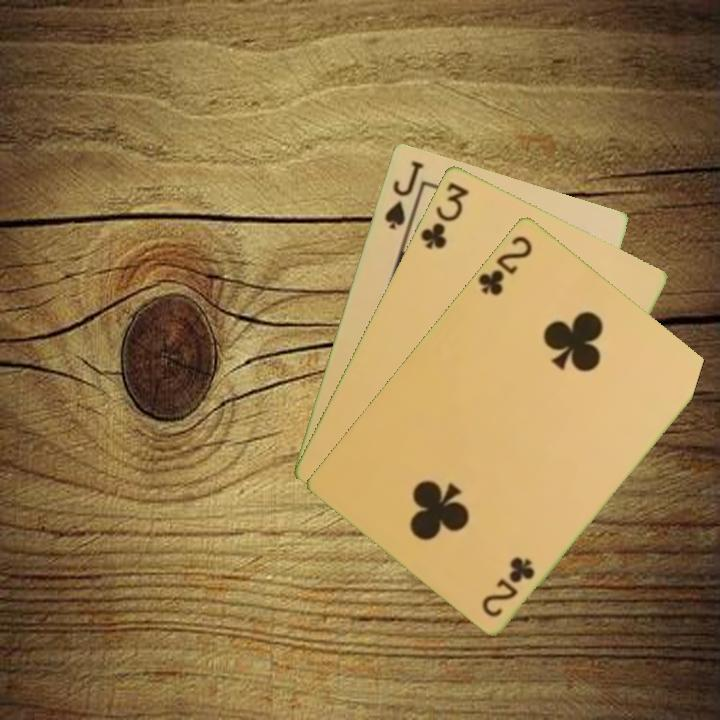2c: (474, 231, 535, 298), (478, 553, 538, 620)
3c: (416, 177, 472, 252)
Js: (380, 156, 426, 232)
